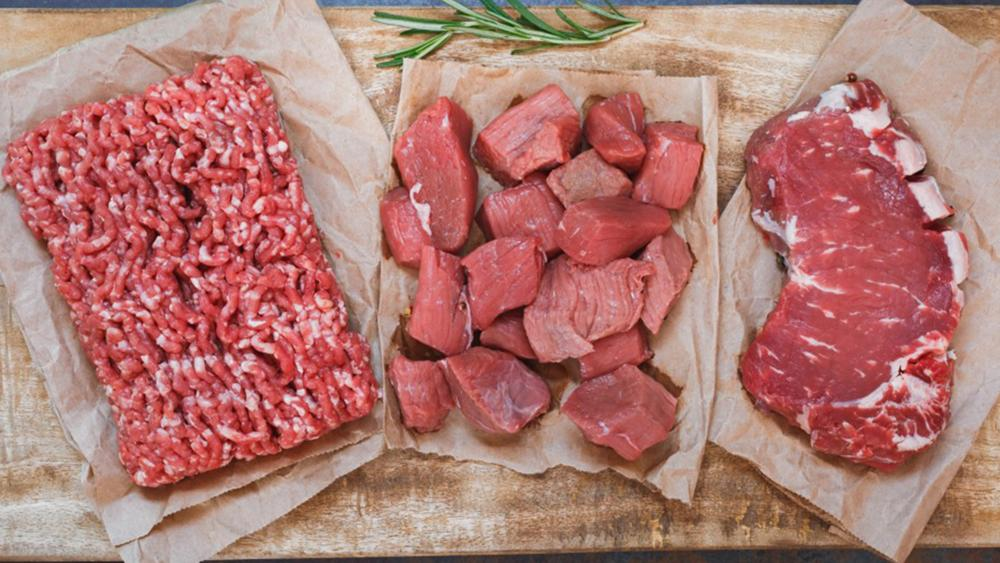ground_beef: (28, 69, 369, 474), (375, 75, 713, 475), (723, 69, 973, 494)
